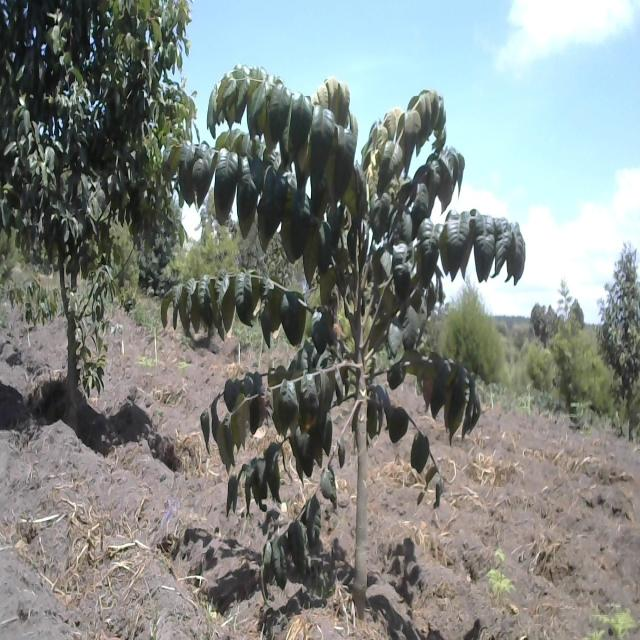Polyscias Kikuyensis: (157, 51, 525, 614)
Prunus Africana: (3, 0, 201, 473)
